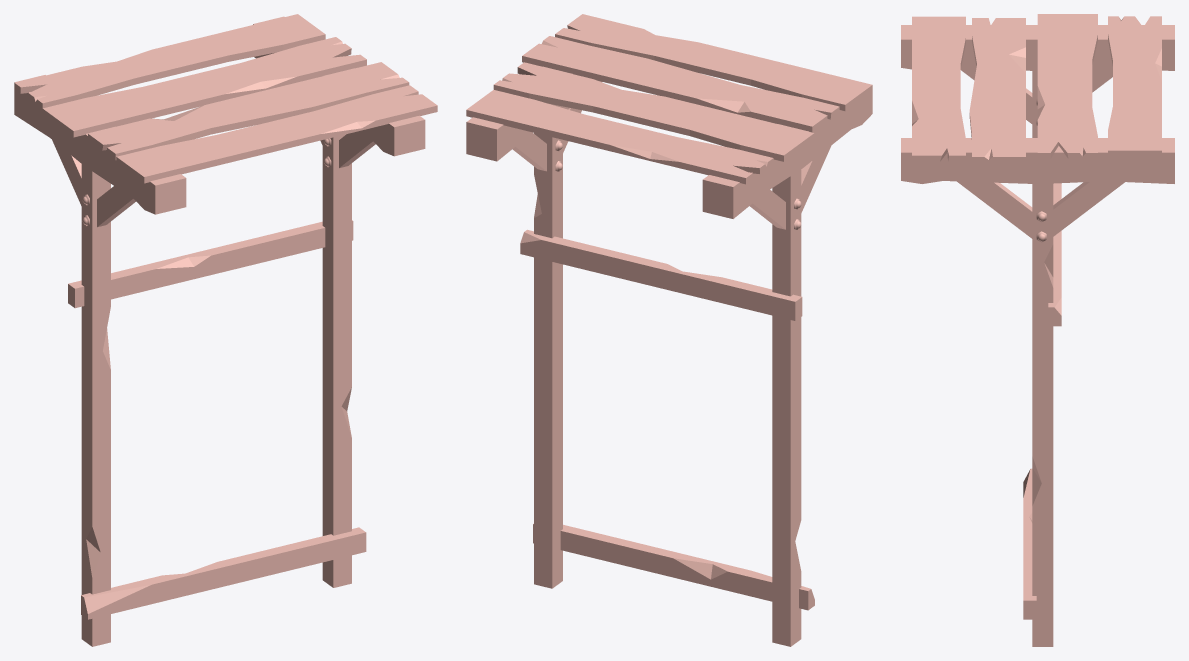
File: Mega_Asset_s_Pack_Cube_284.FBX
3 renders of one model, left to right at view 1: azimuth 30°, elevation 25°; view 2: azimuth 150°, elevation 25°; view 3: azimuth 270°, elevation 25°, orthographic. The views are drawn at different scales.
Parts seen in each view (by area): view 1: Mega_Asset_s_Pack_Cube_284; view 2: Mega_Asset_s_Pack_Cube_284; view 3: Mega_Asset_s_Pack_Cube_284.
Boxes of the visible parts, <box> form: Mega_Asset_s_Pack_Cube_284: <box>14,14,437,646</box>; Mega_Asset_s_Pack_Cube_284: <box>466,14,872,646</box>; Mega_Asset_s_Pack_Cube_284: <box>901,14,1174,646</box>.
Size of what is drawn, in the model's own units: 467 by 378 by 765.
